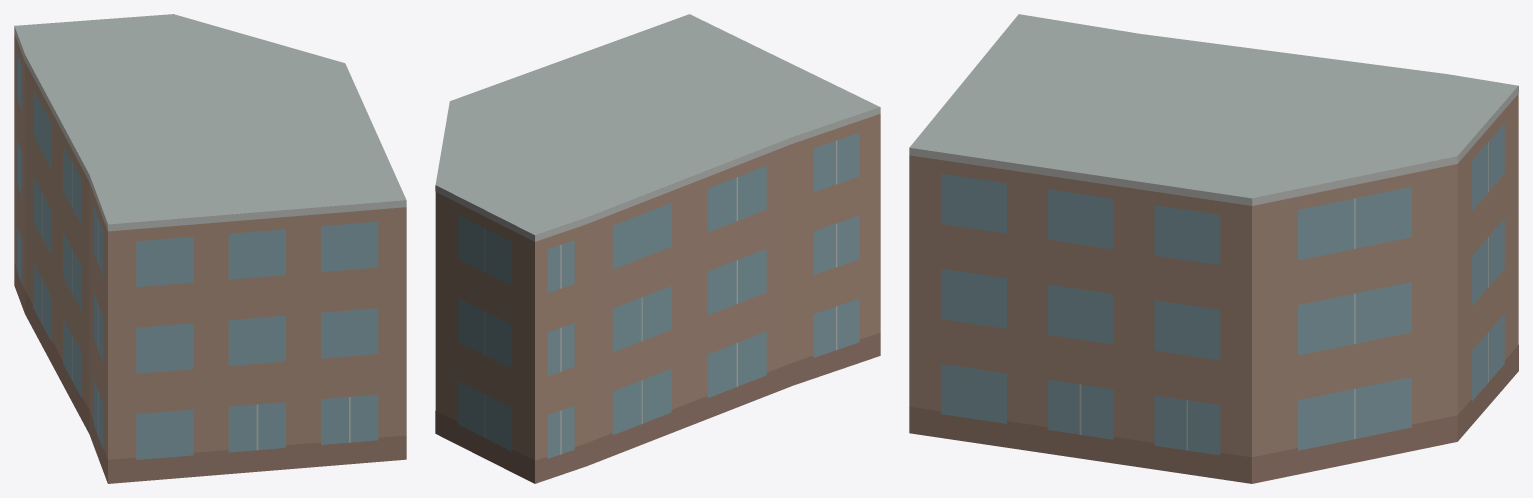
File: survey-upis-32927077.glb
3 renders of one model, left to right at view 1: azimuth 30°, elevation 25°; view 2: azimuth 150°, elevation 25°; view 3: azimuth 270°, elevation 25°, orthographic. The views are drawn at different scales.
Parts seen in each view (by area): view 1: survey-upis-32927077.tmp; view 2: survey-upis-32927077.tmp; view 3: survey-upis-32927077.tmp.
Part boxes in pixels (x1,y1,x2,y2): survey-upis-32927077.tmp: (14, 14, 406, 483); survey-upis-32927077.tmp: (435, 14, 880, 483); survey-upis-32927077.tmp: (909, 14, 1518, 483).
Size of the model in its own units: 12.69 by 9.15 by 17.71.
